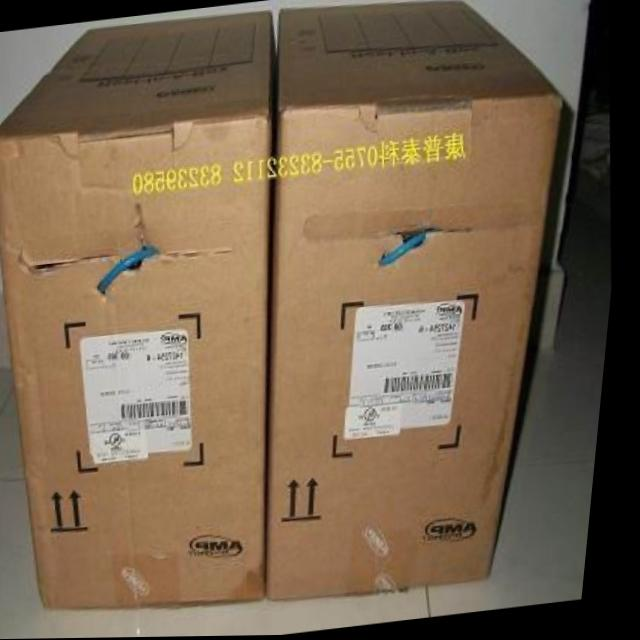box: (277, 1, 563, 593), (0, 10, 276, 605)
